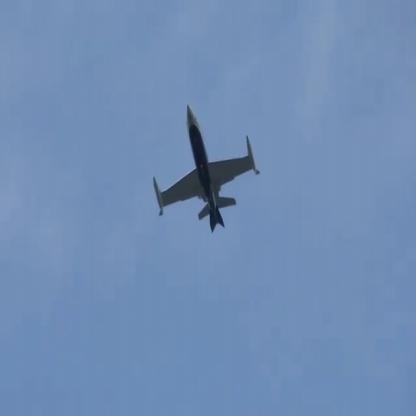CIV_Plane: (150, 104, 262, 234)
